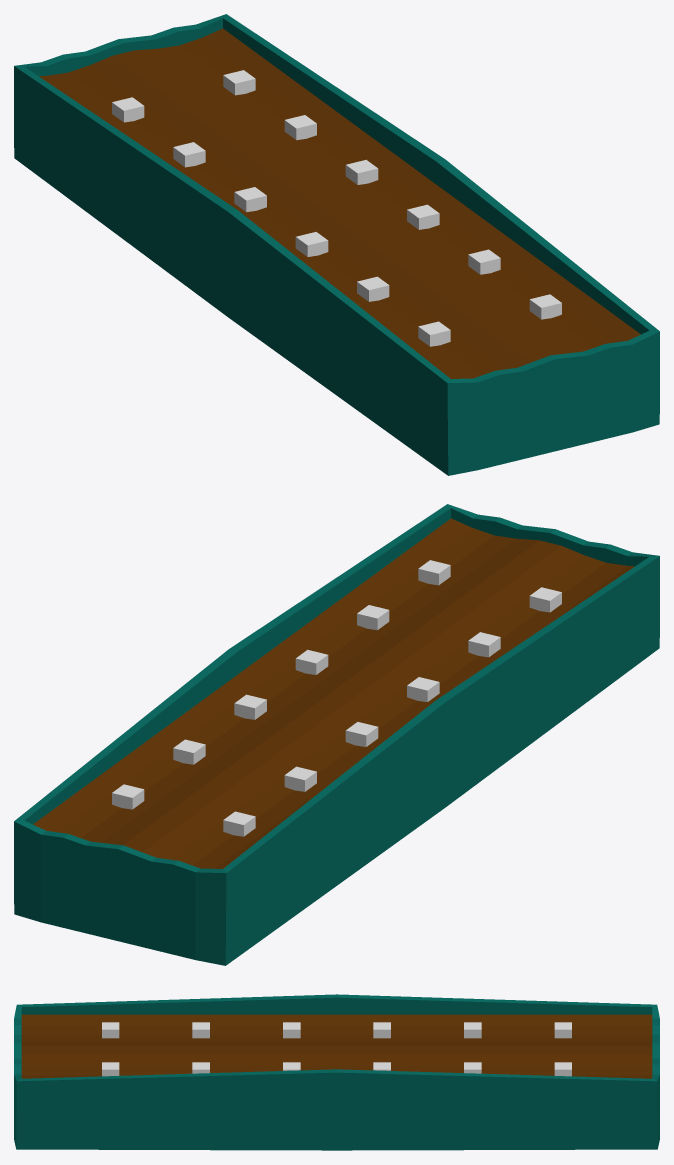
File: Farm.fbx
The picture shows the model from 3 angles, top to bottom: view 1: azimuth 30°, elevation 25°; view 2: azimuth 150°, elevation 25°; view 3: azimuth 270°, elevation 25°; orthographic projection. The views are drawn at different scales.
Parts seen in each view (by area): view 1: Cube.002, Cube.001, Cube.009, Cube.012; view 2: Cube.002, Cube.001, Cube.010, Cube.011; view 3: Cube.002, Cube.001, Cube.008, Cube.010, Cube.012, Cube.014, Cube.005, Cube.016, Cube.004, Cube.015.
Boxes of the visible parts, x1,y1,x2,y2 form: Cube.002: (14, 14, 659, 475); Cube.001: (39, 28, 640, 378); Cube.009: (345, 159, 378, 184); Cube.012: (295, 232, 328, 256); Cube.002: (14, 504, 659, 965); Cube.001: (33, 518, 634, 868); Cube.010: (345, 722, 378, 746); Cube.011: (295, 649, 328, 674); Cube.002: (14, 994, 659, 1150); Cube.001: (21, 1014, 652, 1078); Cube.008: (464, 1022, 481, 1038); Cube.010: (373, 1022, 390, 1038); Cube.012: (283, 1022, 300, 1038); Cube.014: (192, 1022, 209, 1038); Cube.005: (554, 1022, 571, 1038); Cube.016: (102, 1022, 119, 1038); Cube.004: (554, 1062, 571, 1076); Cube.015: (102, 1062, 119, 1076).
Bounding box in the file's own units: 42.1 × 19.58 × 147.
